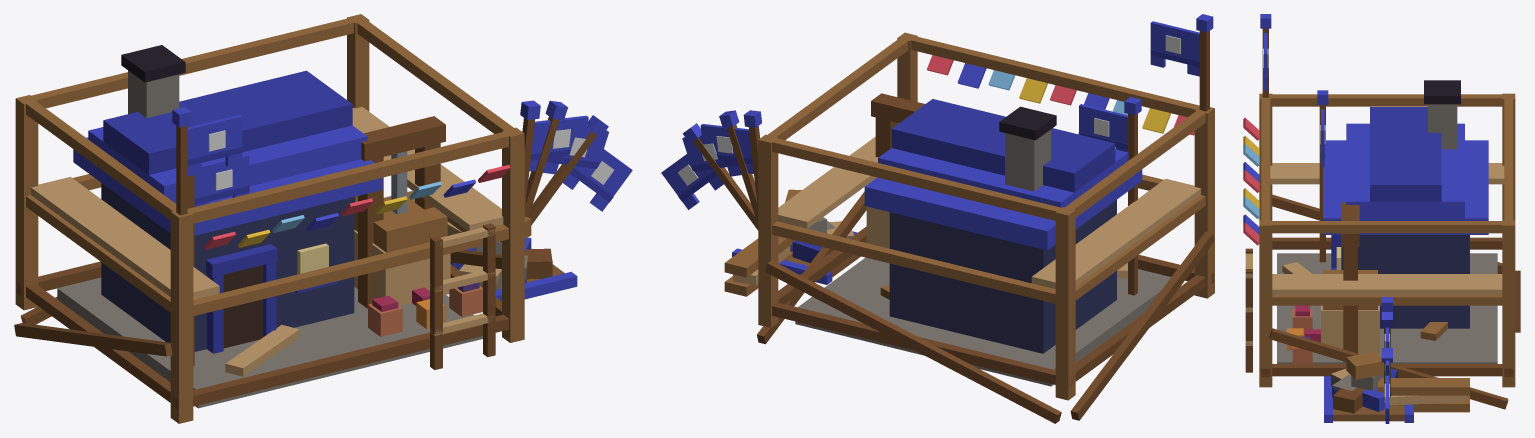
The model's file is bat-research.glb.
3 views of the same model, side by side, from view 1: azimuth 30°, elevation 25°; view 2: azimuth 150°, elevation 25°; view 3: azimuth 270°, elevation 25° (orthographic). The views are drawn at different scales.
Parts seen in each view (by area): view 1: scaffold-mesh, built-mesh, dismantle-75-mesh, dismantle-50-mesh, dismantle-25-mesh, scaffold-banner, banner, dismantle-25-banner, dismantle-75-banner, scaffold-flag-pole, dismantle-25-flag-pole, dismantle-50-banner (+2 smaller); view 2: scaffold-mesh, dismantle-75-mesh, built-mesh, dismantle-50-mesh, scaffold-banner, banner, dismantle-25-banner, dismantle-25-mesh, dismantle-75-banner, flag-pole, dismantle-50-banner, dismantle-25-flag-pole (+3 smaller); view 3: scaffold-mesh, built-mesh, dismantle-75-mesh, dismantle-25-mesh, dismantle-50-mesh, flag-pole, scaffold-flag-pole, banner, scaffold-banner.
Part boxes in pixels (box(x1,y1,x2,y2)): scaffold-mesh: box(14, 14, 524, 423); built-mesh: box(73, 45, 482, 408); dismantle-75-mesh: box(57, 132, 577, 389); dismantle-50-mesh: box(194, 198, 577, 376); dismantle-25-mesh: box(195, 216, 567, 375); scaffold-banner: box(187, 115, 242, 176); banner: box(194, 154, 249, 206); dismantle-25-banner: box(563, 144, 632, 211); dismantle-75-banner: box(529, 115, 588, 171); scaffold-flag-pole: box(172, 107, 191, 215); dismantle-25-flag-pole: box(528, 115, 608, 225); dismantle-50-banner: box(543, 128, 608, 179); scaffold-mesh: box(724, 32, 1214, 423); dismantle-75-mesh: box(732, 117, 1170, 369); built-mesh: box(795, 93, 1142, 386); dismantle-50-mesh: box(732, 225, 1127, 353); scaffold-banner: box(1150, 21, 1199, 76); banner: box(1078, 104, 1127, 152); dismantle-25-banner: box(661, 148, 723, 209); dismantle-25-mesh: box(732, 189, 1127, 320); dismantle-75-banner: box(700, 124, 753, 173); flag-pole: box(1124, 97, 1141, 295); dismantle-50-banner: box(682, 133, 741, 181); dismantle-25-flag-pole: box(682, 123, 758, 230); scaffold-mesh: box(1243, 93, 1520, 412); built-mesh: box(1277, 80, 1497, 363); dismantle-75-mesh: box(1277, 208, 1497, 422); dismantle-25-mesh: box(1282, 262, 1447, 422); dismantle-50-mesh: box(1282, 247, 1469, 422); flag-pole: box(1317, 90, 1328, 262); scaffold-flag-pole: box(1260, 14, 1271, 97); banner: box(1320, 109, 1325, 166); scaffold-banner: box(1263, 33, 1268, 90).
Bounding box in the file's own units: 2.66 × 1.57 × 1.51.
